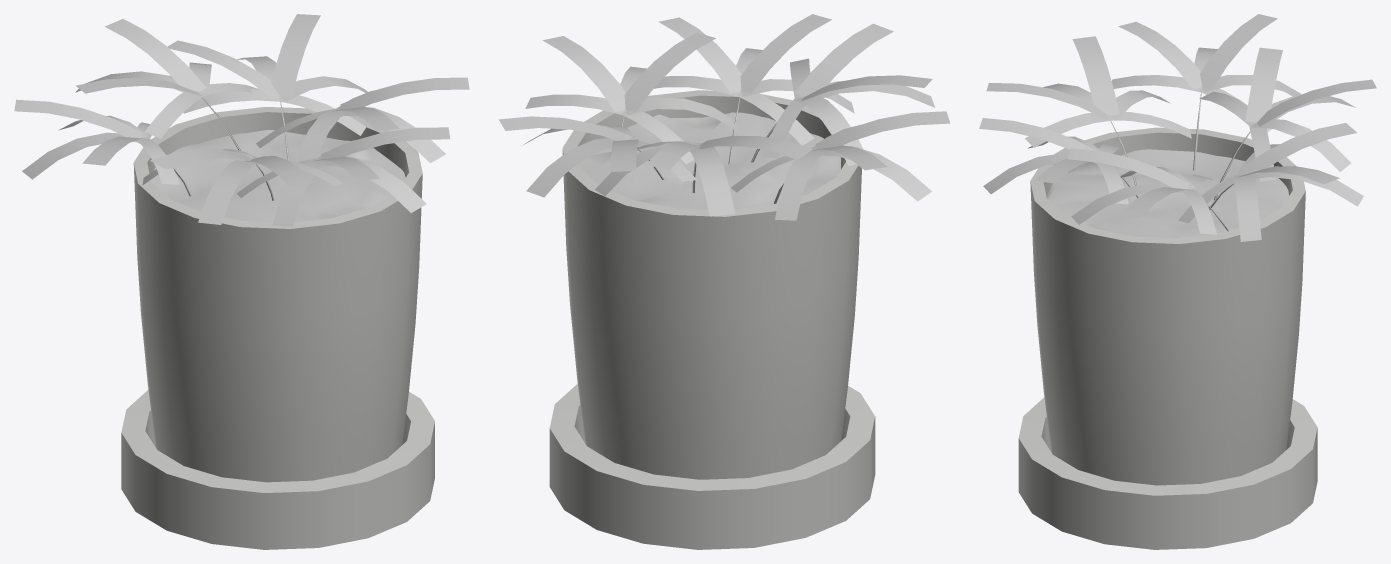
File: SmallWhitePots009.FBX
3 renders of one model, left to right at view 1: azimuth 30°, elevation 25°; view 2: azimuth 150°, elevation 25°; view 3: azimuth 270°, elevation 25°, orthographic. The views are drawn at different scales.
Visible parts, largest first — view 1: SmallWhitePots009; view 2: SmallWhitePots009; view 3: SmallWhitePots009.
Boxes of the visible parts, <box> form: SmallWhitePots009: <box>14,14,469,549</box>; SmallWhitePots009: <box>498,14,950,549</box>; SmallWhitePots009: <box>979,14,1376,549</box>.
Bounding box in the file's own units: 0.4026 × 0.3772 × 0.3587.
